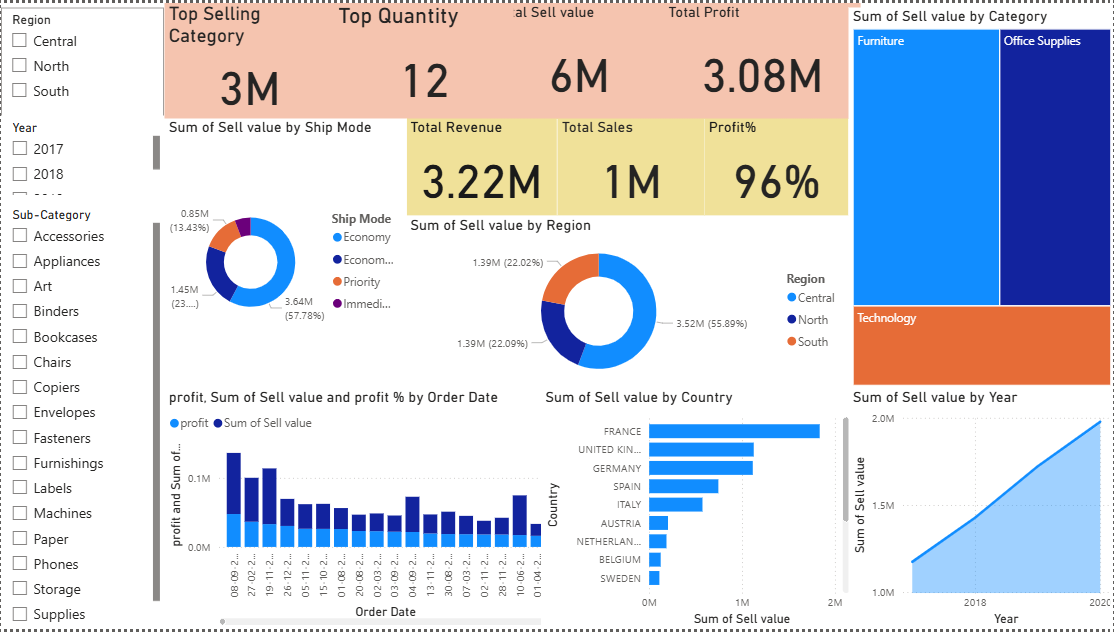

The page's visual inventory and layout, read from the dashboard file:
{"tool":"powerbi","page":{"name":"Page 2","canvas":[1280,720],"ordinal":1},"visuals":[{"type":"slicer","fields":{"Values":["List of Orders.Region"]},"box":[0,4.8,187.7,128.8],"z":0},{"type":"slicer","fields":{"Values":["List of Orders.Year"]},"box":[0,128.8,187.7,95.4],"z":1000},{"type":"slicer","fields":{"Values":["List of Orders.Sub-Category"]},"box":[0,229,187.7,491.5],"z":2000},{"type":"card","title":"total Sell value","fields":{"Values":["Sum(List of Orders.Sell value)"]},"box":[564.7,0,197.2,133.6],"z":3000},{"type":"card","title":"Total Profit","fields":{"Values":["List of Orders.profit"]},"box":[761.9,0,225.9,133.6],"z":4000},{"type":"card","title":"Profit%","fields":{"Values":["List of Orders.profit %"]},"box":[808,133.6,165.4,111.3],"z":5000},{"type":"card","title":"Total Sales","fields":{"Values":["List of Orders.Sum of sales"]},"box":[639.4,133.6,168.6,111.3],"z":6000},{"type":"card","title":"Top Selling Category","fields":{"Values":["Sum(List of Orders.Sell value)"]},"box":[187.7,0,195.6,133.6],"z":7000},{"type":"card","title":"Top Quantity","fields":{"Values":["Min(List of Orders.Quantity)"]},"box":[383.3,0,206.8,133.6],"z":8000},{"type":"card","title":"Total Revenue","fields":{"Values":["List of Orders.Total Revenue"]},"box":[466,133.6,173.4,111.3],"z":9000},{"type":"columnChart","fields":{"Y":["List of Orders.profit","Sum(List of Orders.Sell value)"],"Category":["List of Orders.Order Date"]},"box":[187.7,443.8,450.1,276.8],"z":10000},{"type":"clusteredBarChart","fields":{"Y":["Sum(List of Orders.Sell value)"],"Category":["List of Orders.Country"]},"box":[620.3,443.8,359.5,276.8],"z":11000},{"type":"areaChart","fields":{"Category":["List of Orders.Year"],"Y":["Sum(List of Orders.Sell value)"]},"box":[973.5,443.8,307,276.8],"z":12000},{"type":"donutChart","fields":{"Y":["Sum(List of Orders.Sell value)"],"Category":["List of Orders.Ship Mode"]},"box":[187.7,133.6,278.4,310.2],"z":13000},{"type":"donutChart","fields":{"Y":["Sum(List of Orders.Sell value)"],"Category":["List of Orders.Region"]},"box":[466,245,507.4,198.8],"z":14000},{"type":"treemap","fields":{"Values":["Sum(List of Orders.Sell value)"],"Group":["List of Orders.Category"]},"box":[973.5,4.8,307,439],"z":15000}]}

Visuals, with their boxes in screenshot pixels (x1, y1, x2, y2), scaled from the page's 1280x720 canvas onto the 1114x633 screenshot:
slicer - List of Orders.Region: {"left": 0, "top": 4, "right": 163, "bottom": 117}
slicer - List of Orders.Year: {"left": 0, "top": 113, "right": 163, "bottom": 197}
slicer - List of Orders.Sub-Category: {"left": 0, "top": 201, "right": 163, "bottom": 632}
"total Sell value" card: {"left": 491, "top": 0, "right": 663, "bottom": 117}
"Total Profit" card: {"left": 663, "top": 0, "right": 860, "bottom": 117}
"Profit%" card: {"left": 703, "top": 117, "right": 847, "bottom": 215}
"Total Sales" card: {"left": 556, "top": 117, "right": 703, "bottom": 215}
"Top Selling Category" card: {"left": 163, "top": 0, "right": 334, "bottom": 117}
"Top Quantity" card: {"left": 334, "top": 0, "right": 514, "bottom": 117}
"Total Revenue" card: {"left": 406, "top": 117, "right": 556, "bottom": 215}
columnChart - List of Orders.profit x Sum(List of Orders.Sell value): {"left": 163, "top": 390, "right": 555, "bottom": 632}
clusteredBarChart - Sum(List of Orders.Sell value) x List of Orders.Country: {"left": 540, "top": 390, "right": 853, "bottom": 632}
areaChart - List of Orders.Year x Sum(List of Orders.Sell value): {"left": 847, "top": 390, "right": 1113, "bottom": 632}
donutChart - Sum(List of Orders.Sell value) x List of Orders.Ship Mode: {"left": 163, "top": 117, "right": 406, "bottom": 390}
donutChart - Sum(List of Orders.Sell value) x List of Orders.Region: {"left": 406, "top": 215, "right": 847, "bottom": 390}
treemap - Sum(List of Orders.Sell value) x List of Orders.Category: {"left": 847, "top": 4, "right": 1113, "bottom": 390}
